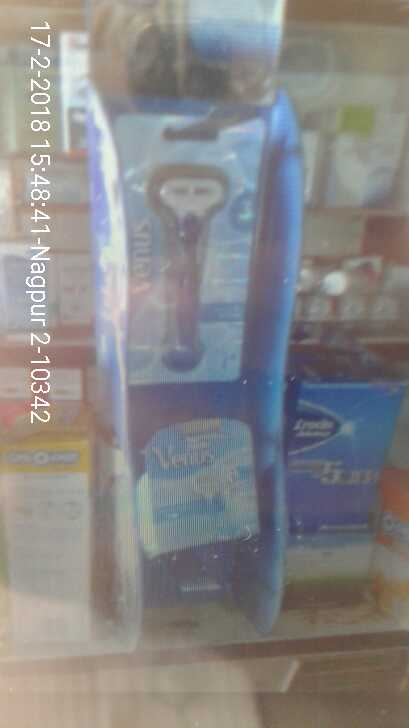venus: (119, 115, 262, 380), (136, 426, 264, 545)
